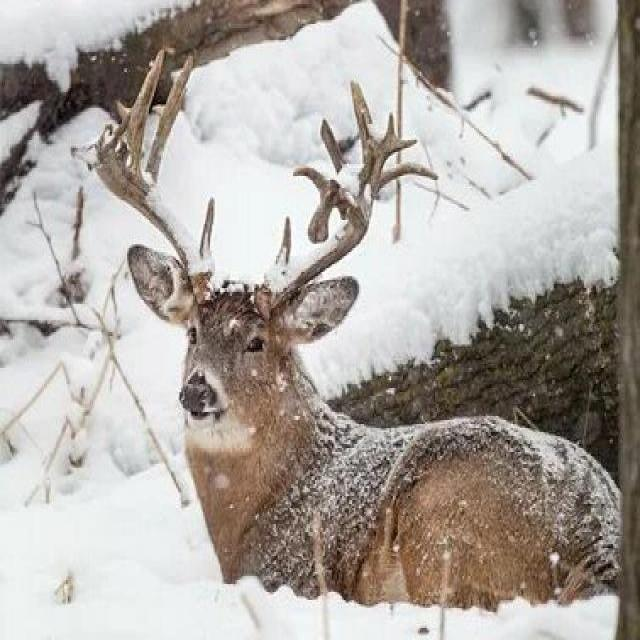deer: (90, 85, 634, 640)
